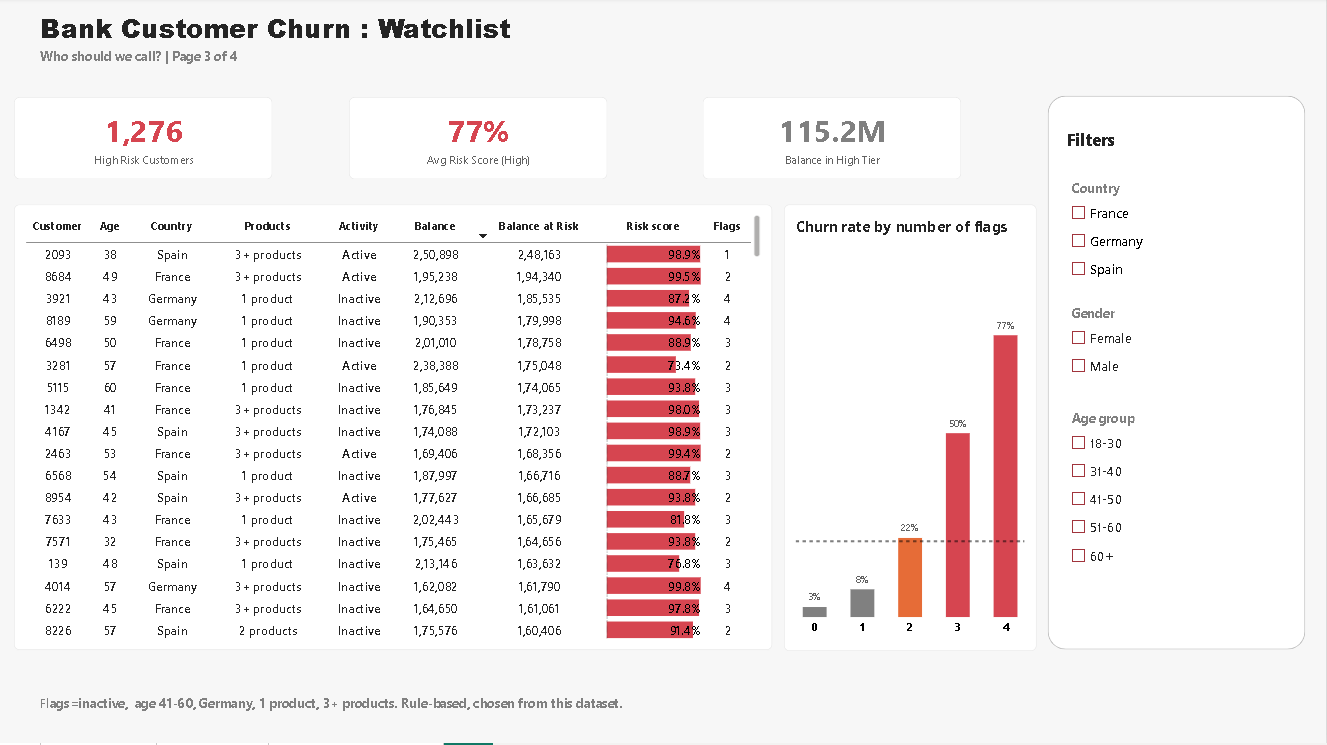

The page's visual inventory and layout, read from the dashboard file:
{"tool":"powerbi","page":{"name":"Watchlist","canvas":[1920,1080],"ordinal":2},"visuals":[{"type":"textbox","title":"Bank Customer Churn : Watchlist","box":[59.7,18.1,1860.3,83.2],"z":0},{"type":"shape","box":[1518.3,143,372.8,801.7],"z":1000},{"type":"slicer","fields":{"Values":["churn_powerbi.country"]},"box":[1545.2,264,145,162.3],"z":2000},{"type":"slicer","fields":{"Values":["churn_powerbi.gender"]},"box":[1545.2,445.8,145,134.2],"z":3000},{"type":"slicer","fields":{"Values":["churn_powerbi.age_group"]},"box":[1545.2,597.3,193.6,240.7],"z":4000},{"type":"textbox","box":[1545.2,190.4,103.9,41.1],"z":5000},{"type":"cardVisual","fields":{"Data":["calculations.High Risk Customers"]},"box":[21.6,145,374.4,119],"z":6000},{"type":"cardVisual","fields":{"Data":["calculations.Avg Risk Score (High)"]},"box":[506.4,145,374.4,119],"z":7000},{"type":"cardVisual","fields":{"Data":["calculations.Balance in High Tier"]},"box":[1019.3,145,374.4,119],"z":8000},{"type":"tableEx","fields":{"Values":["churn_powerbi.customer_key","churn_powerbi.age","churn_powerbi.country","churn_powerbi.product_group","churn_powerbi.active_label","churn_powerbi.balance","calculations.Balance at Risk (per customer)","churn_powerbi.churn_probability","churn_powerbi.flag_count"]},"box":[21.6,300.8,1097.2,644.9],"z":9000},{"type":"clusteredColumnChart","title":"Churn rate by number of flags","fields":{"Category":["churn_powerbi.flag_count"],"Y":["calculations.Churn Rate"]},"box":[1136.5,300.4,365.6,646],"z":10000},{"type":"textbox","box":[60.6,1010.7,1815.7,69.3],"z":11000}]}

Visuals, with their boxes in screenshot pixels (x1, y1, x2, y2), scaled from the page's 1920x1080 canvas onto the 1327x745 screenshot:
"Bank Customer Churn : Watchlist" textbox: [left=41, top=12, right=1326, bottom=70]
shape: [left=1049, top=99, right=1307, bottom=652]
slicer - churn_powerbi.country: [left=1068, top=182, right=1168, bottom=294]
slicer - churn_powerbi.gender: [left=1068, top=308, right=1168, bottom=400]
slicer - churn_powerbi.age_group: [left=1068, top=412, right=1202, bottom=578]
textbox: [left=1068, top=131, right=1140, bottom=160]
cardVisual - calculations.High Risk Customers: [left=15, top=100, right=274, bottom=182]
cardVisual - calculations.Avg Risk Score (High): [left=350, top=100, right=609, bottom=182]
cardVisual - calculations.Balance in High Tier: [left=704, top=100, right=963, bottom=182]
tableEx - churn_powerbi.customer_key x churn_powerbi.age: [left=15, top=207, right=773, bottom=652]
"Churn rate by number of flags" clusteredColumnChart: [left=785, top=207, right=1038, bottom=653]
textbox: [left=42, top=697, right=1297, bottom=744]
